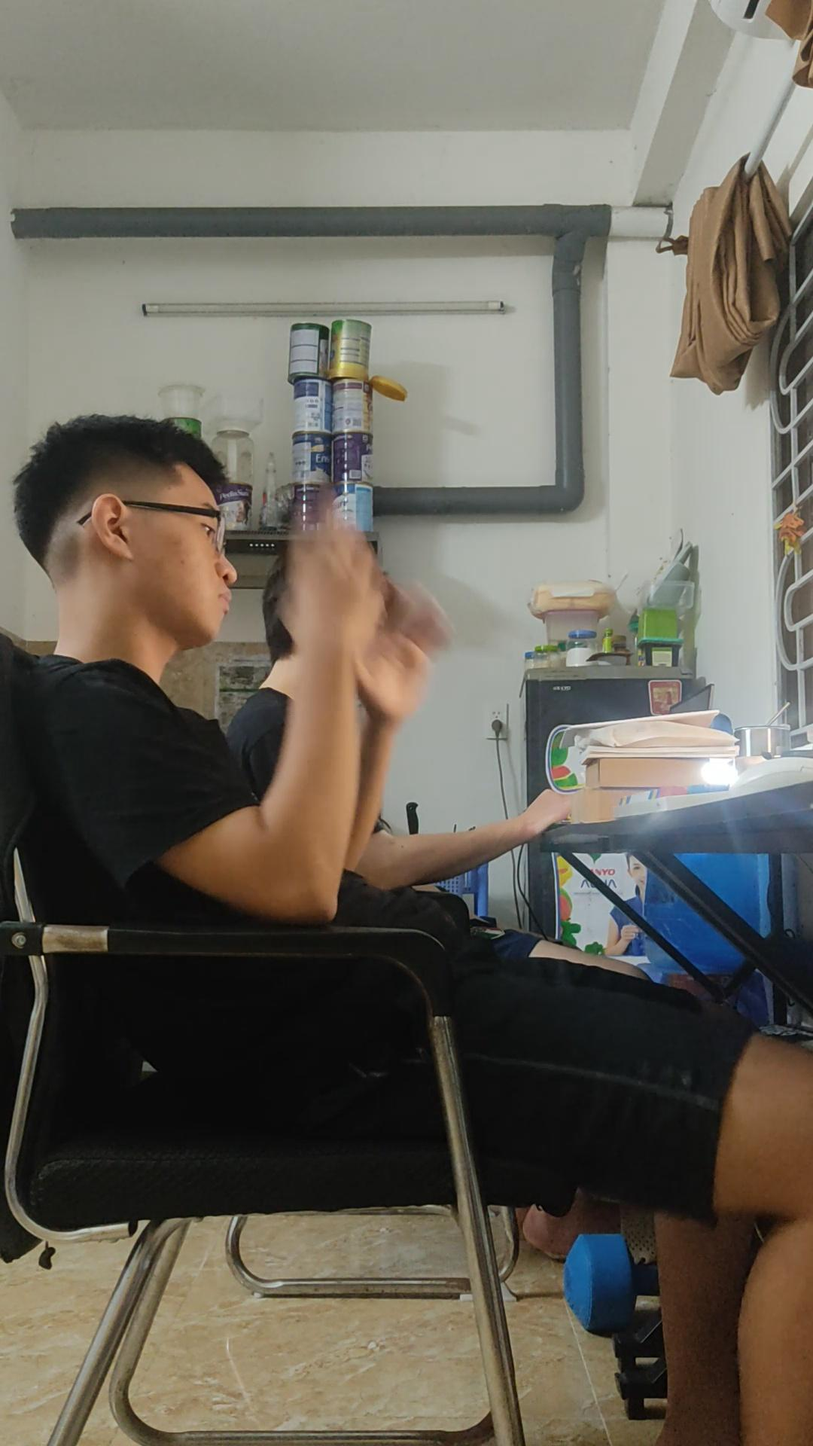BadPosture: (14, 416, 441, 929), (419, 895, 812, 1445), (88, 956, 443, 1138)
